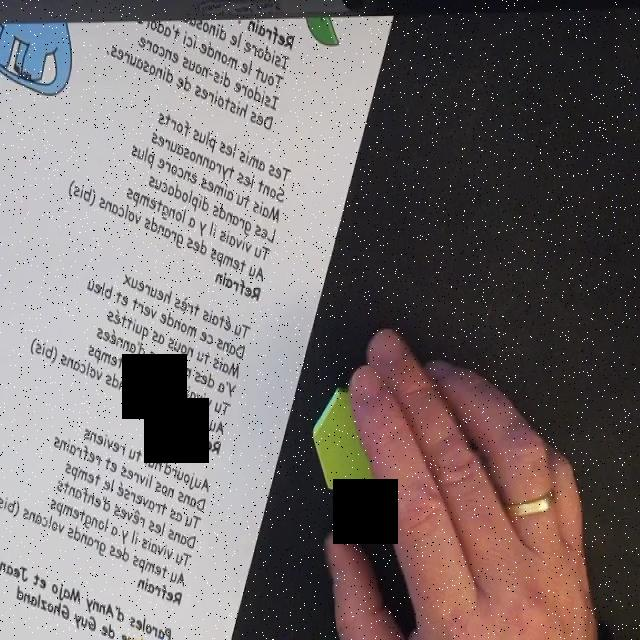hexagon: (312, 389, 396, 499)
